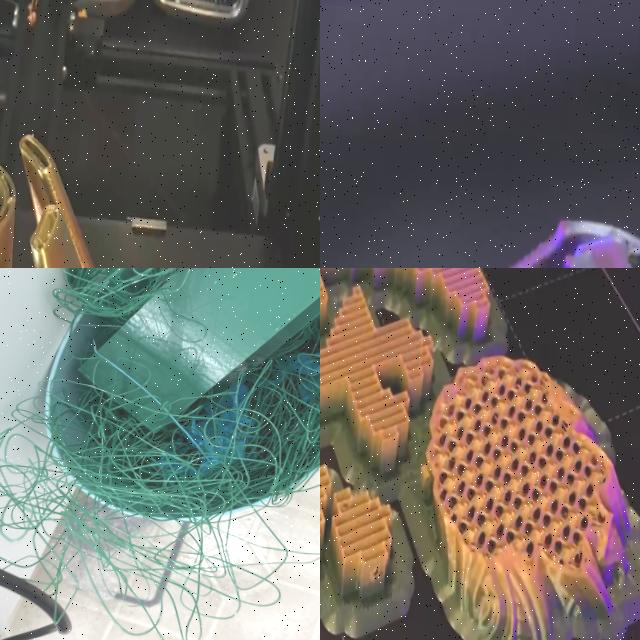spaghetti: (40, 303, 320, 524), (0, 428, 278, 639), (16, 268, 209, 330)
